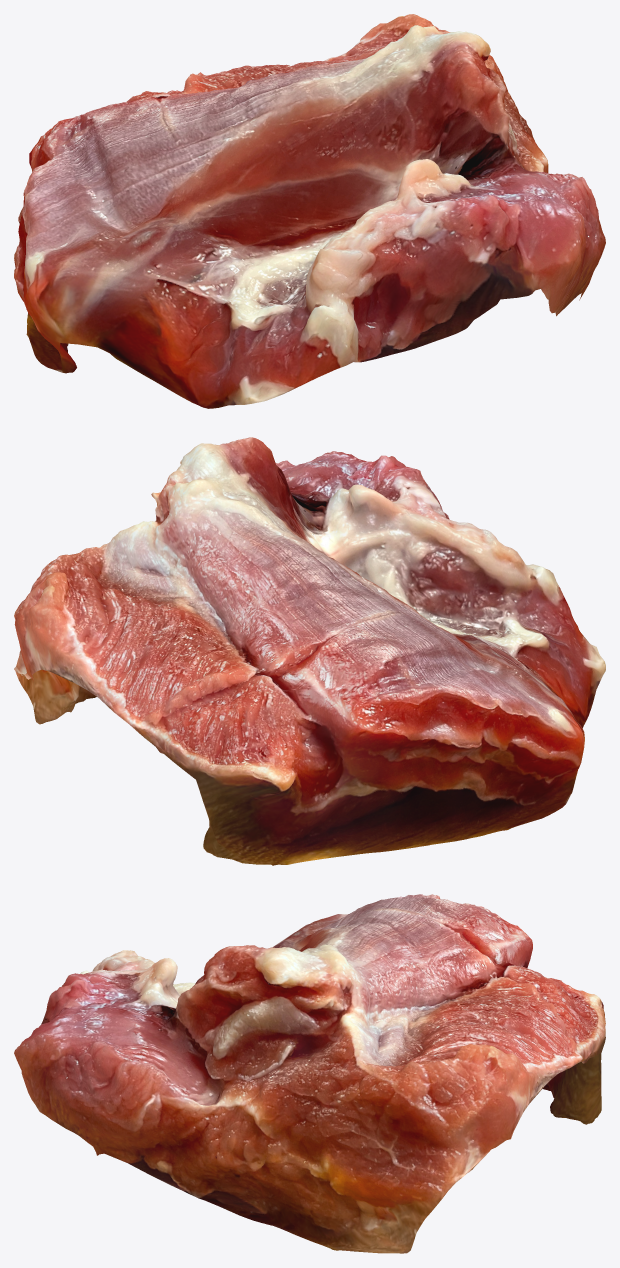
The model's file is meat 1.glb.
3 views of the same model, one above another, from view 1: azimuth 30°, elevation 25°; view 2: azimuth 150°, elevation 25°; view 3: azimuth 270°, elevation 25° (orthographic). The views are drawn at different scales.
Visible parts, largest first — view 1: Object_2; view 2: Object_2; view 3: Object_2.
Part boxes in pixels (x1=…): Object_2: x1=14, y1=14, x2=605, y2=408; Object_2: x1=14, y1=437, x2=605, y2=865; Object_2: x1=14, y1=894, x2=605, y2=1253.
Size of the model in its own units: 0.9659 by 0.462 by 0.9806.
1 material, 1 textured.
